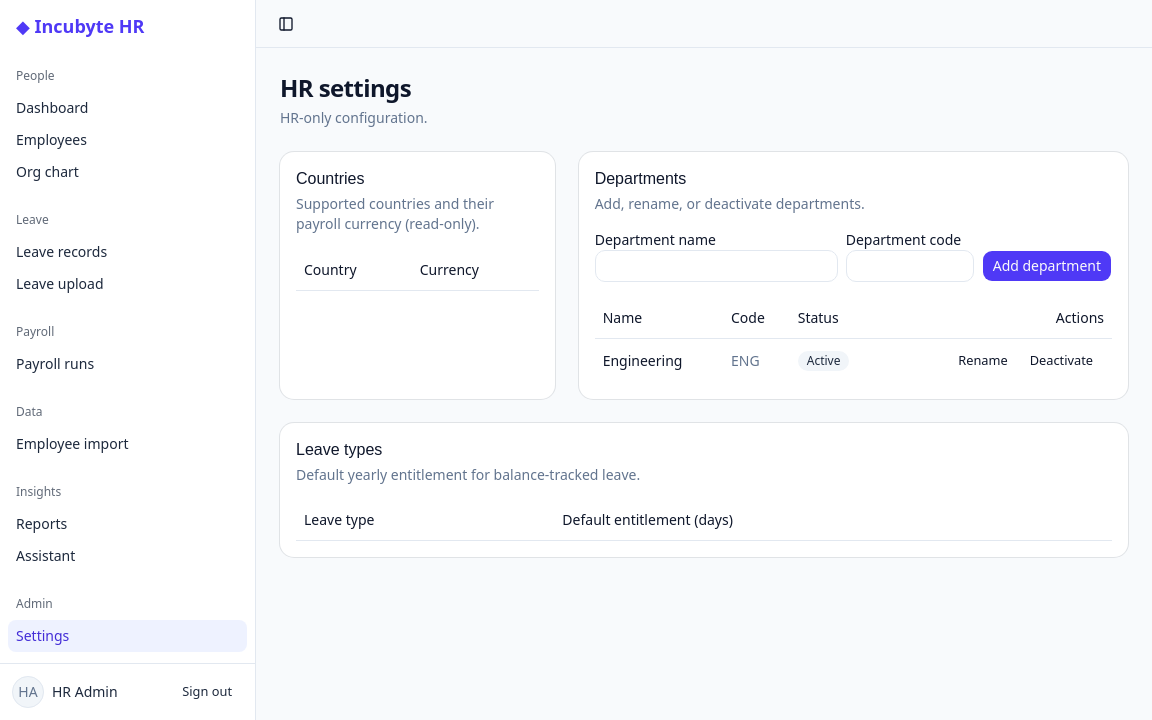
Test: App › deactivates a department and removes its actions
Check: the text "Engineering" is shown, box [595,338,723,382]
Click the button with aria-label "Deactivate Engineering" at (1061, 360), box [1019,346,1104,374]
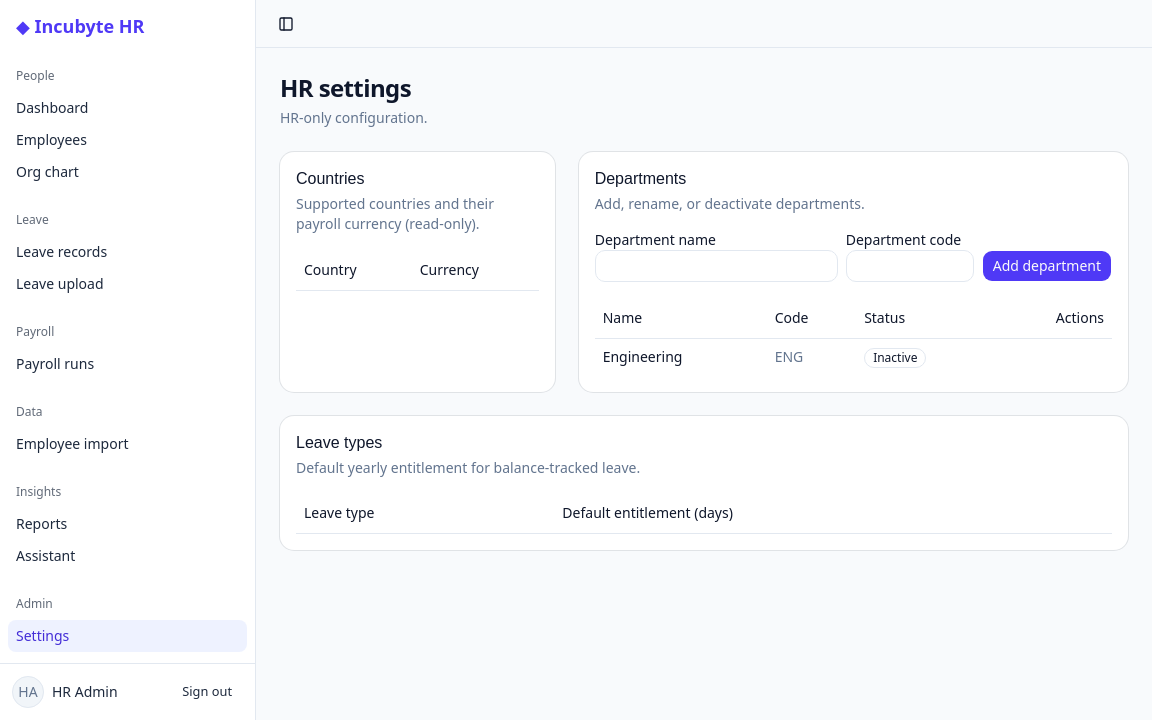
Check: the text "Inactive" is shown, box [864,348,926,368]
